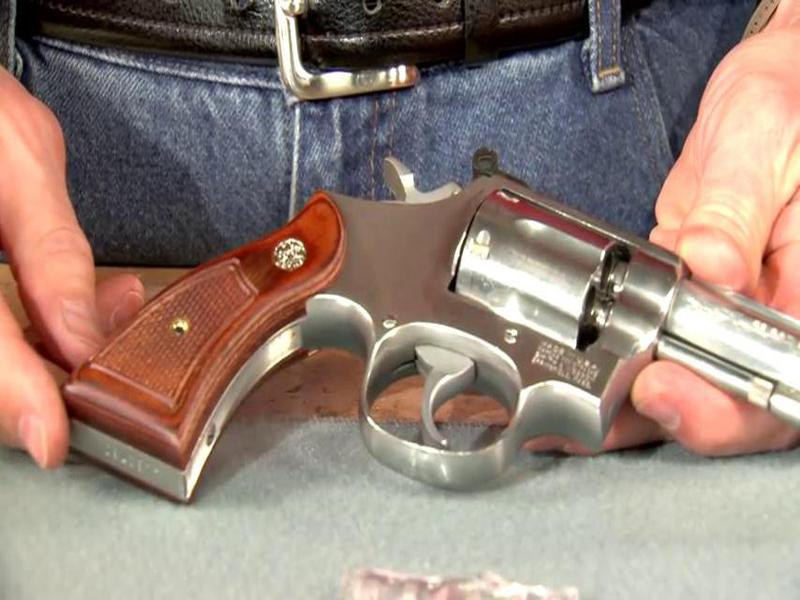Revolver: (94, 127, 785, 534)
